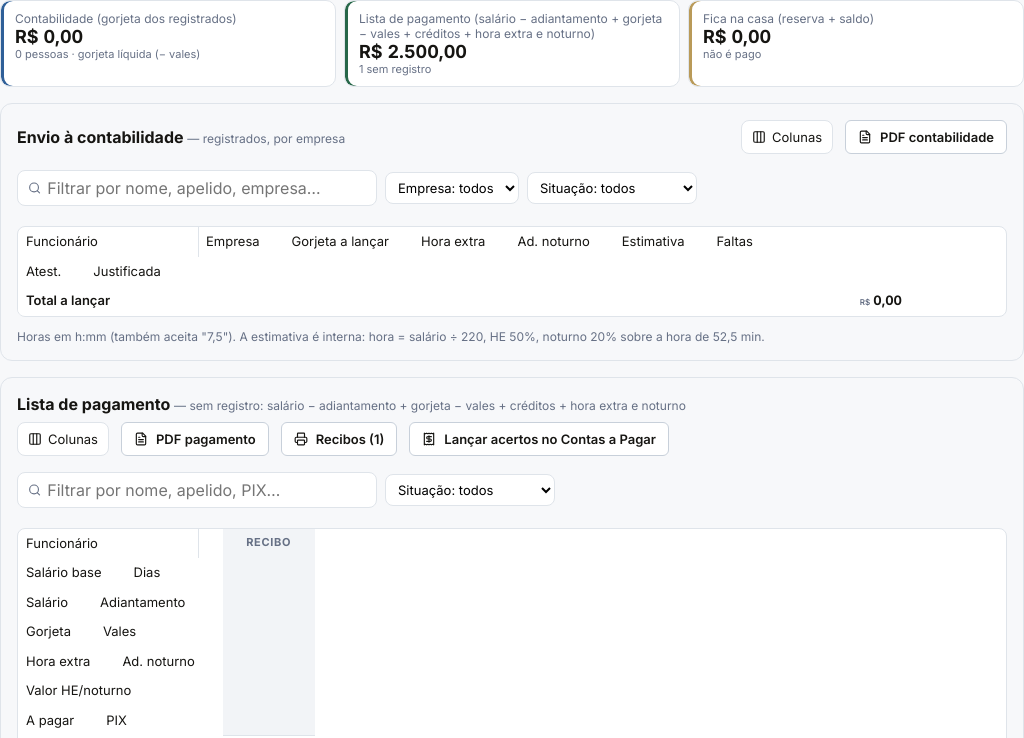
Test: lançar os acertos da lista no Contas a Pagar › avisos repetidos aparecem todos (chave sem colisão)
The width and height of the screenshot is (1024, 738).
Click the button "Lançar acertos no Contas a Pagar".
click(539, 439)  # box [409, 422, 669, 456]
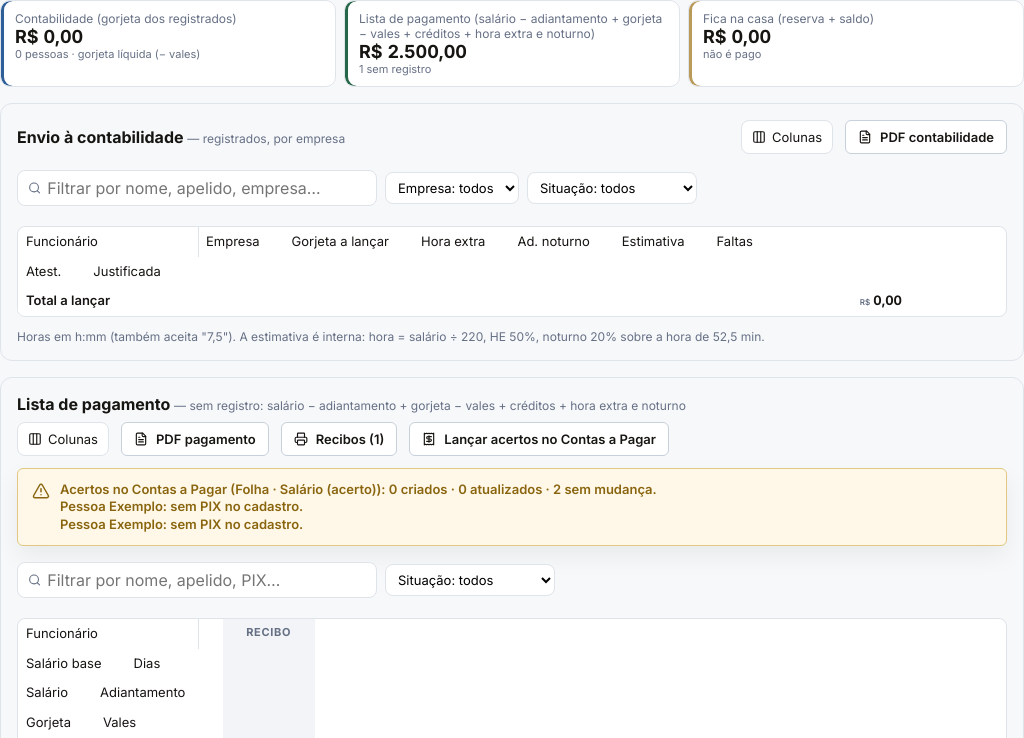
Expected: the text "Pessoa Exemplo: sem PIX no cadastro." is shown 2 times, [60, 498, 303, 514]; [60, 516, 303, 532]
